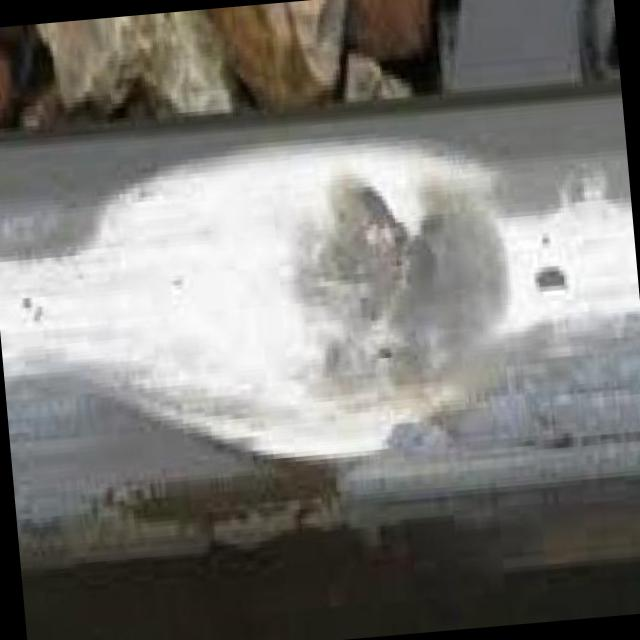defective: (42, 79, 600, 568)
